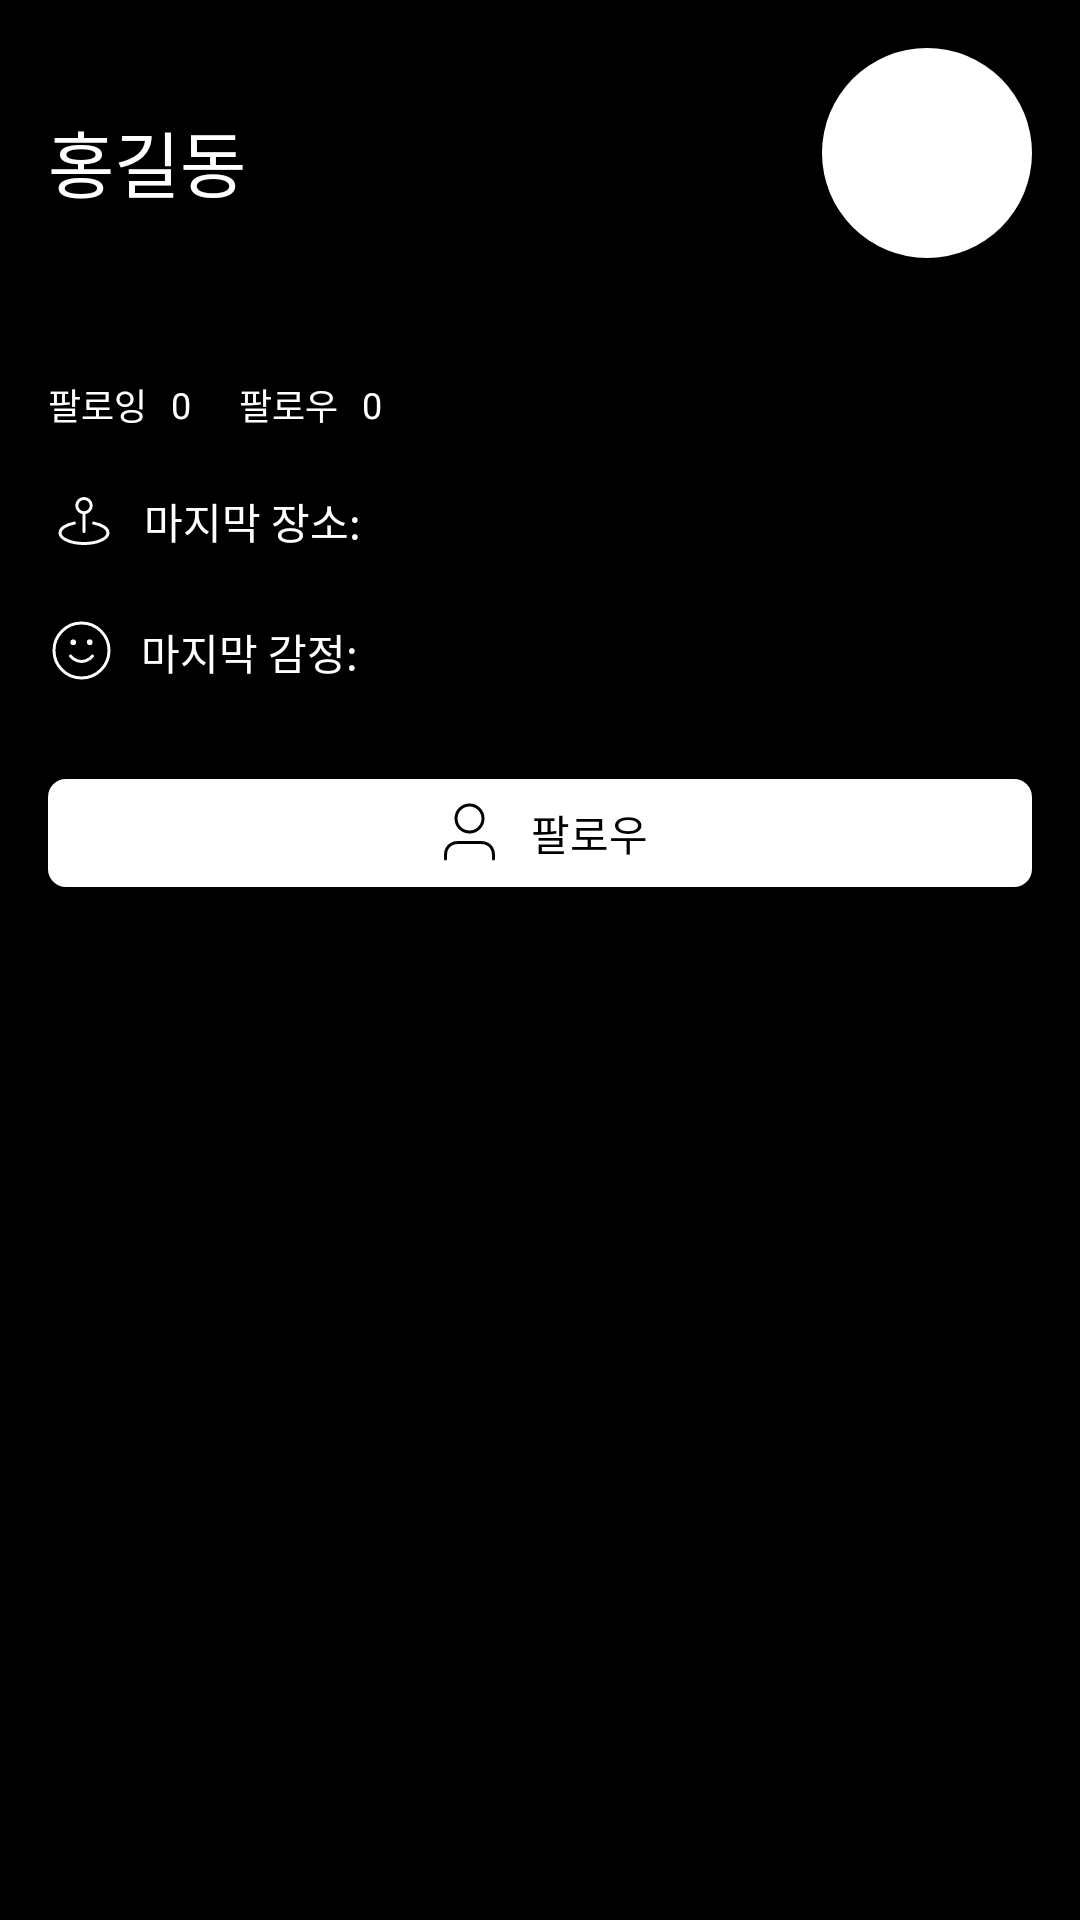

Point at icon controls on the screen. Image size 1080 x 1920, points as (x,y).
face: (81,650)
marker pin: (84,521)
